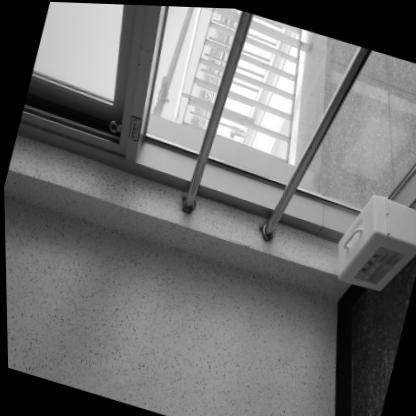DDL: (327, 182, 416, 295)
